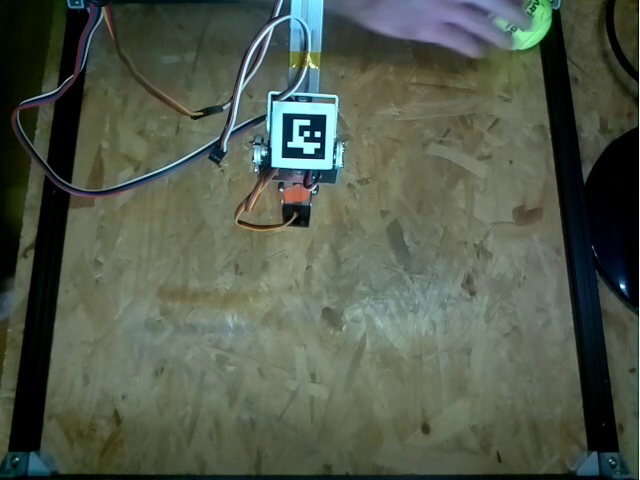tennis_ball: (489, 1, 553, 49)
